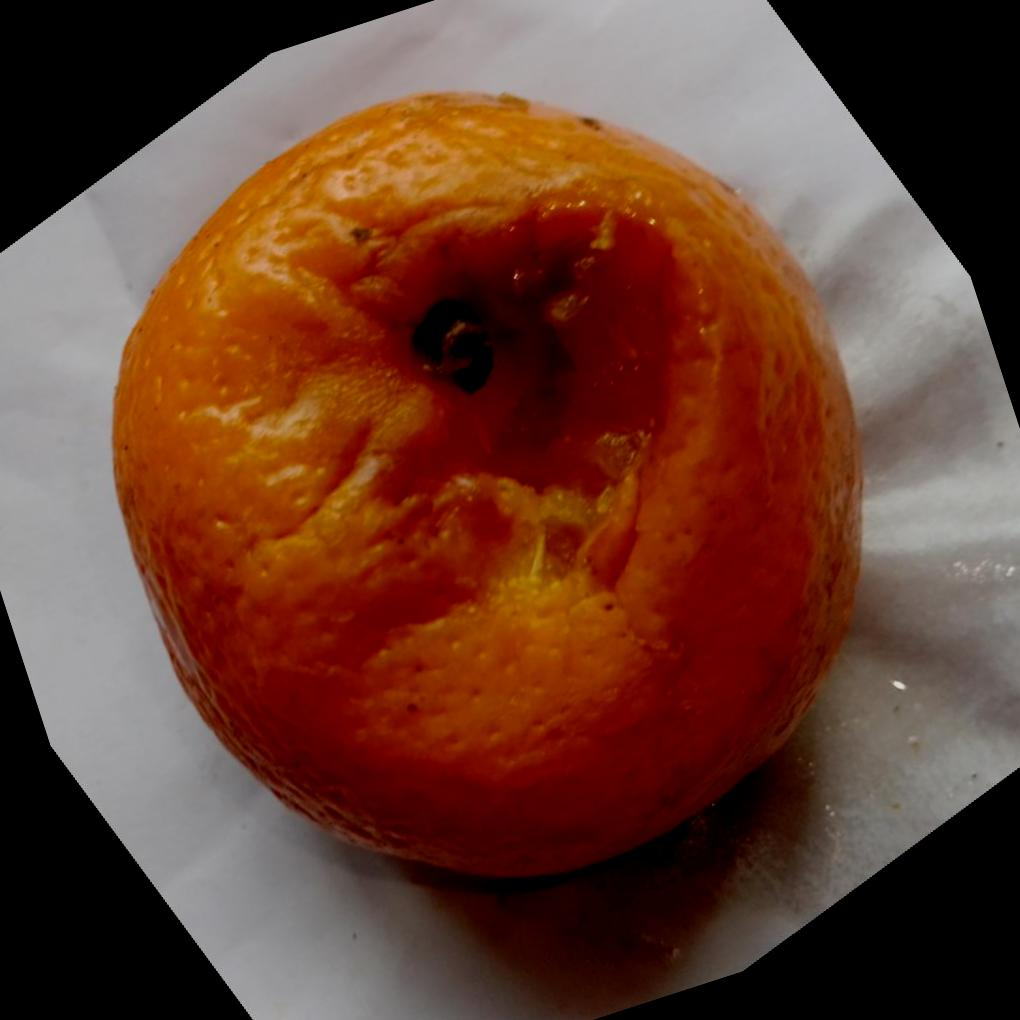FreshOrange: (110, 89, 868, 885)
